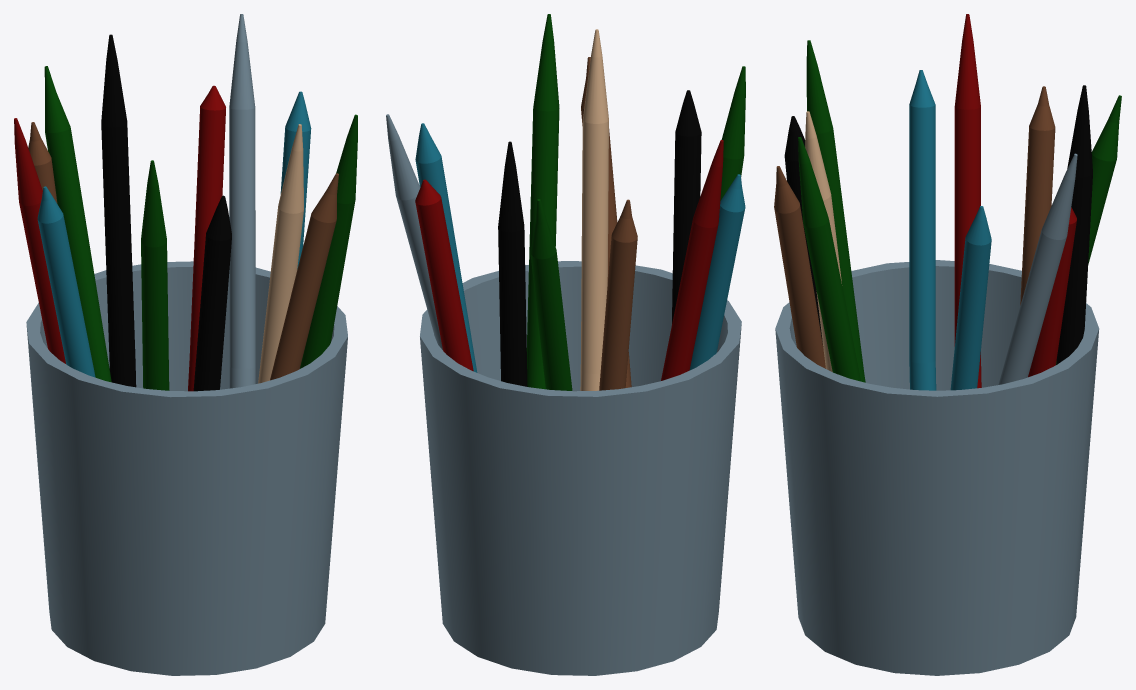
Rendered from PotCrayon_5.fbx.
The picture shows the model from 3 angles, left to right: view 1: azimuth 30°, elevation 25°; view 2: azimuth 150°, elevation 25°; view 3: azimuth 270°, elevation 25°; orthographic projection.
Parts seen in each view (by area): view 1: pPipe106, pCylinder207, pCylinder205, pCylinder230, pCylinder229, pCylinder227, pCylinder232, pCylinder214, pCylinder203, pCylinder231, pCylinder197, pCylinder235 (+2 smaller); view 2: pPipe106, pCylinder227, pCylinder197, pCylinder205, pCylinder235, pCylinder214, pCylinder204, pCylinder230, pCylinder231, pCylinder203, pCylinder207, pCylinder240 (+2 smaller); view 3: pPipe106, pCylinder231, pCylinder197, pCylinder235, pCylinder207, pCylinder205, pCylinder232, pCylinder240, pCylinder229, pCylinder204, pCylinder214, pCylinder230 (+2 smaller).
Part boxes in pixels (<box>): pPipe106: <box>26,261,347,675</box>; pCylinder207: <box>229,14,255,388</box>; pCylinder205: <box>101,34,136,387</box>; pCylinder230: <box>44,66,111,382</box>; pCylinder229: <box>141,160,169,390</box>; pCylinder227: <box>258,124,303,383</box>; pCylinder232: <box>270,173,338,380</box>; pCylinder214: <box>188,85,225,391</box>; pCylinder203: <box>193,195,231,391</box>; pCylinder231: <box>37,186,95,377</box>; pCylinder197: <box>300,114,357,368</box>; pCylinder235: <box>14,118,65,363</box>; pPipe106: <box>420,261,741,675</box>; pCylinder227: <box>580,29,608,390</box>; pCylinder197: <box>526,14,559,389</box>; pCylinder205: <box>498,141,527,386</box>; pCylinder235: <box>661,140,723,380</box>; pCylinder214: <box>415,179,473,371</box>; pCylinder204: <box>599,199,637,390</box>; pCylinder230: <box>530,199,572,390</box>; pCylinder231: <box>689,174,745,370</box>; pCylinder203: <box>672,90,701,323</box>; pCylinder207: <box>386,114,442,349</box>; pCylinder240: <box>415,123,477,372</box>; pPipe106: <box>775,260,1099,675</box>; pCylinder231: <box>909,70,936,390</box>; pCylinder197: <box>798,137,860,381</box>; pCylinder235: <box>954,14,981,388</box>; pCylinder207: <box>998,153,1077,384</box>; pCylinder205: <box>1056,85,1092,364</box>; pCylinder232: <box>774,166,825,368</box>; pCylinder240: <box>950,206,991,390</box>; pCylinder229: <box>806,40,865,382</box>; pCylinder204: <box>1020,86,1055,305</box>; pCylinder214: <box>1028,207,1076,377</box>; pCylinder230: <box>1056,95,1121,364</box>.
Size of the model in its own units: 7.61 by 12.8 by 7.61.
